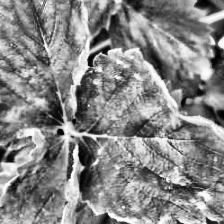Powdery Mildew Leaf: (72, 48, 224, 224), (0, 0, 91, 151), (0, 127, 86, 224), (171, 0, 224, 37)
